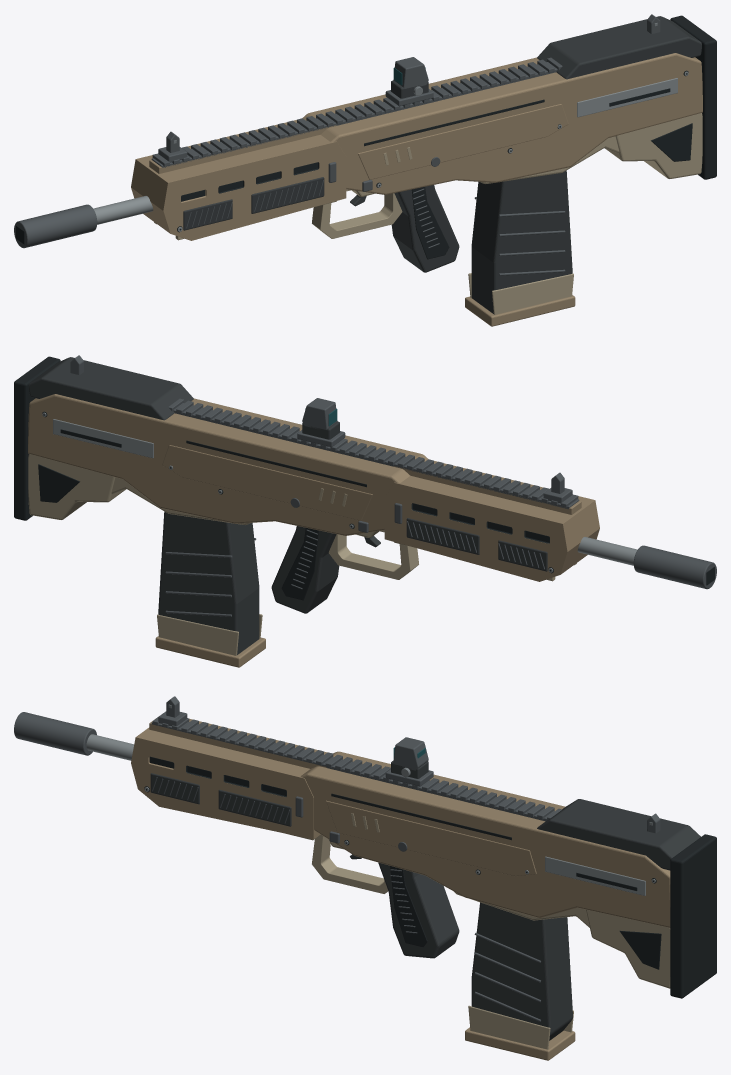
3 renders of one model, top to bottom at view 1: azimuth 30°, elevation 25°; view 2: azimuth 150°, elevation 25°; view 3: azimuth 330°, elevation 25°, orthographic.
Parts seen in each view (by area): view 1: part_receiver_surfaces, part_handguard_surfaces, part_magazine_surfaces, part_stock_surfaces, part_sights_surfaces, part_grip_surfaces, part_front_surfaces, part_controls_surfaces, part_optic_surfaces; view 2: part_receiver_surfaces, part_handguard_surfaces, part_magazine_surfaces, part_stock_surfaces, part_sights_surfaces, part_grip_surfaces, part_front_surfaces, part_controls_surfaces, part_optic_surfaces; view 3: part_receiver_surfaces, part_stock_surfaces, part_handguard_surfaces, part_magazine_surfaces, part_sights_surfaces, part_grip_surfaces, part_front_surfaces, part_controls_surfaces, part_optic_surfaces.
Boxes of the visible parts, x1,y1,x2,y2 form: part_receiver_surfaces: (302,53,702,196); part_handguard_surfaces: (131,120,346,240); part_magazine_surfaces: (465,170,575,326); part_stock_surfaces: (537,15,716,179); part_sights_surfaces: (151,14,660,167); part_grip_surfaces: (391,185,459,272); part_front_surfaces: (14,196,153,248); part_controls_surfaces: (312,157,440,238); part_optic_surfaces: (385,57,433,106); part_receiver_surfaces: (28,394,428,537); part_handguard_surfaces: (384,461,599,581); part_magazine_surfaces: (155,511,265,667); part_stock_surfaces: (14,356,193,520); part_sights_surfaces: (70,355,579,509); part_grip_surfaces: (271,526,339,613); part_front_surfaces: (577,537,716,589); part_controls_surfaces: (290,498,418,579); part_optic_surfaces: (297,398,345,447); part_receiver_surfaces: (300,751,670,927); part_stock_surfaces: (537,799,716,998); part_handguard_surfaces: (131,718,327,840); part_magazine_surfaces: (465,902,575,1060); part_sights_surfaces: (151,696,660,833); part_grip_surfaces: (378,862,459,958); part_front_surfaces: (14,712,134,760); part_controls_surfaces: (295,796,407,893); part_optic_surfaces: (385,737,433,786).
Bounding box in the file's own units: 290 × 111 × 26.
